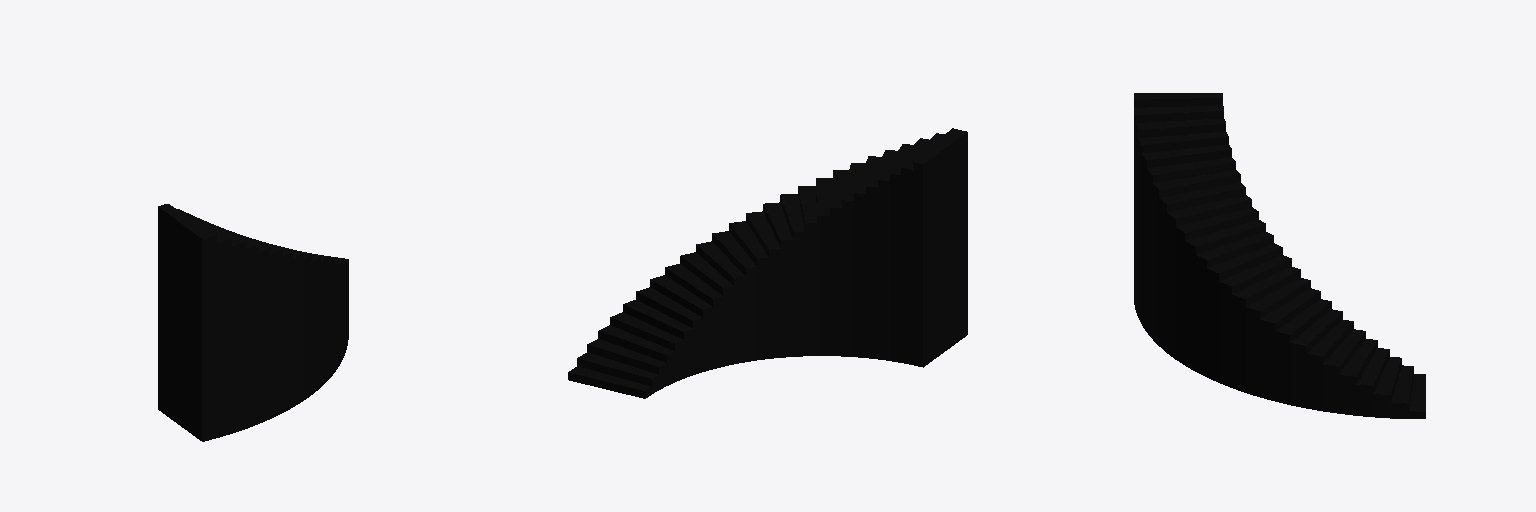
The model's file is CurvedStairs.obj.
The picture shows the model from 3 angles: view 1: azimuth 30°, elevation 25°; view 2: azimuth 150°, elevation 25°; view 3: azimuth 270°, elevation 25°; orthographic projection.
Visible parts, largest first — view 1: CurvedStairs; view 2: CurvedStairs; view 3: CurvedStairs.
Boxes of the visible parts, <box> form: CurvedStairs: <box>158,204,348,441</box>; CurvedStairs: <box>568,128,967,398</box>; CurvedStairs: <box>1134,93,1425,418</box>.
Bounding box in the file's own units: 10.67 × 8.17 × 10.67.